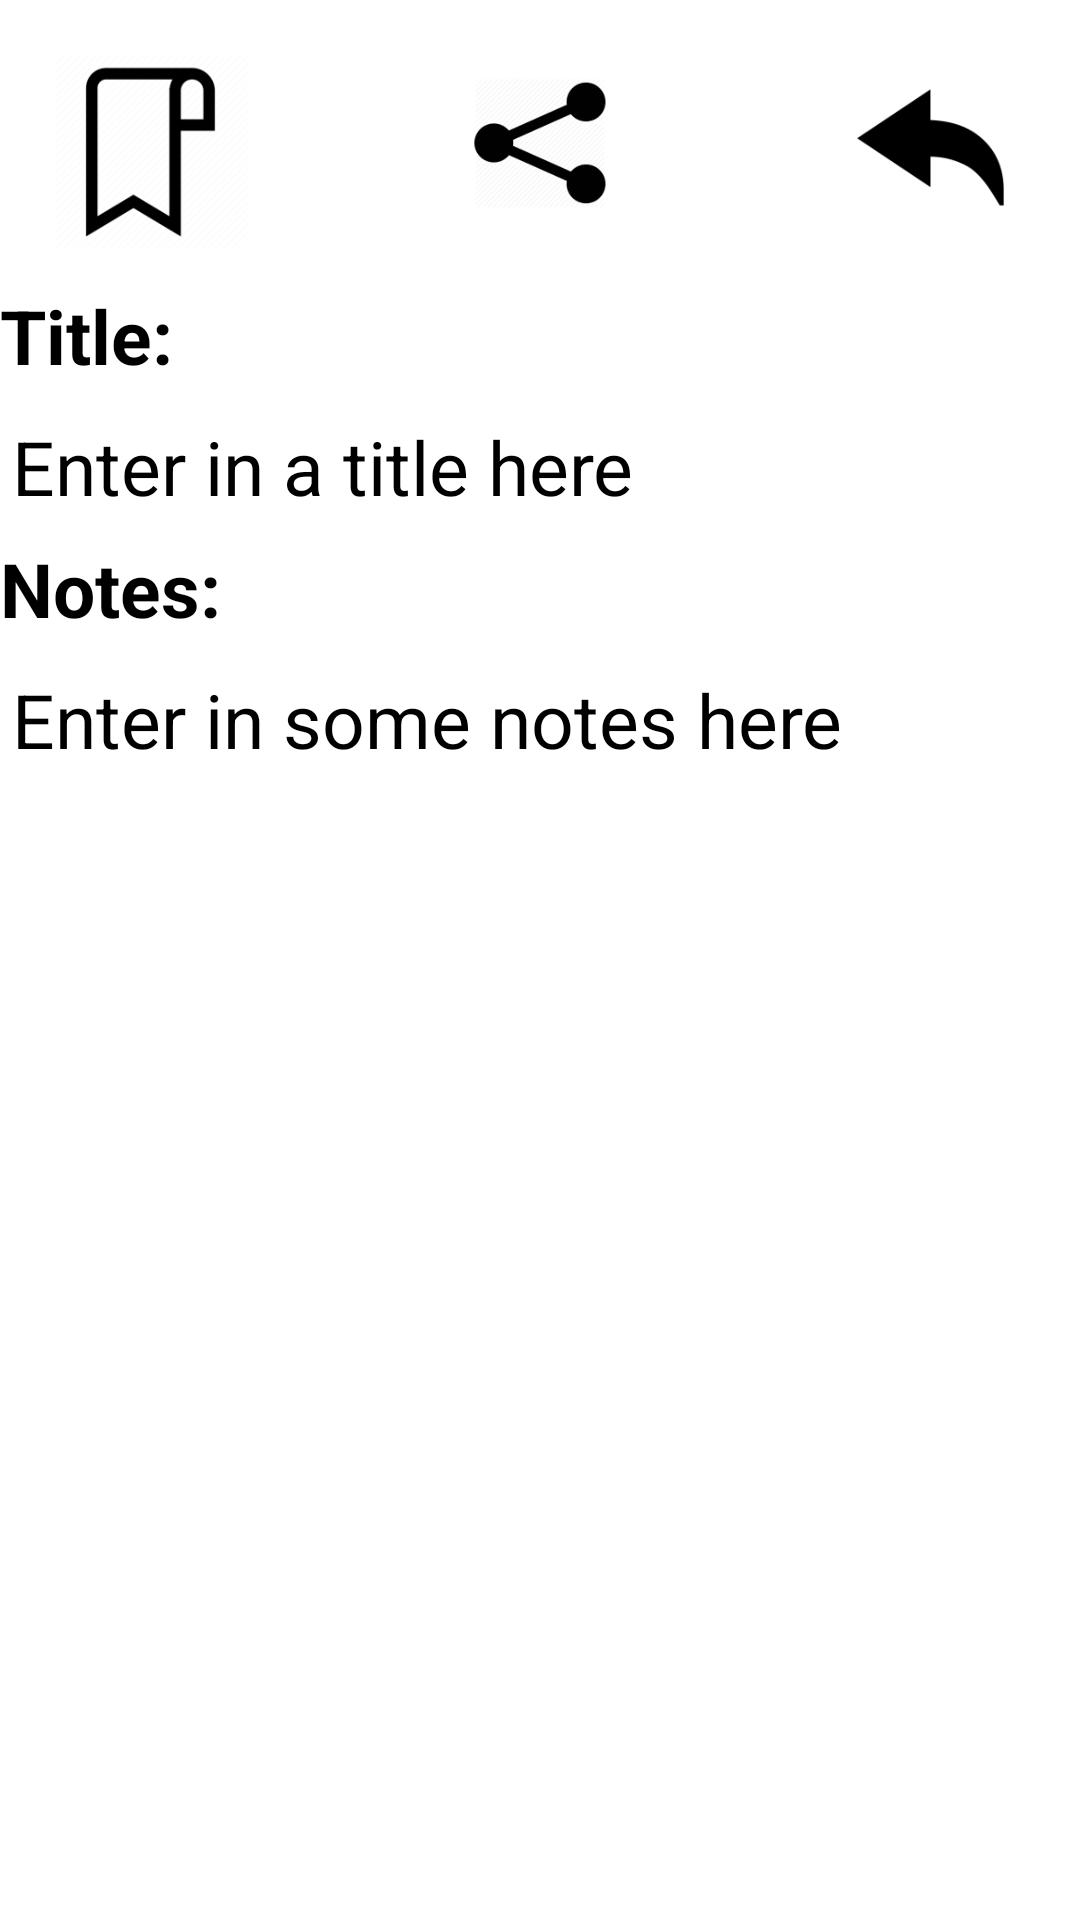

Named icons in this screenshot (1080*1920) and their bounding boxes, (x1, y1, x2, y2):
save: (85, 67, 215, 237)
share: (474, 82, 606, 204)
undo: (857, 89, 1004, 206)
